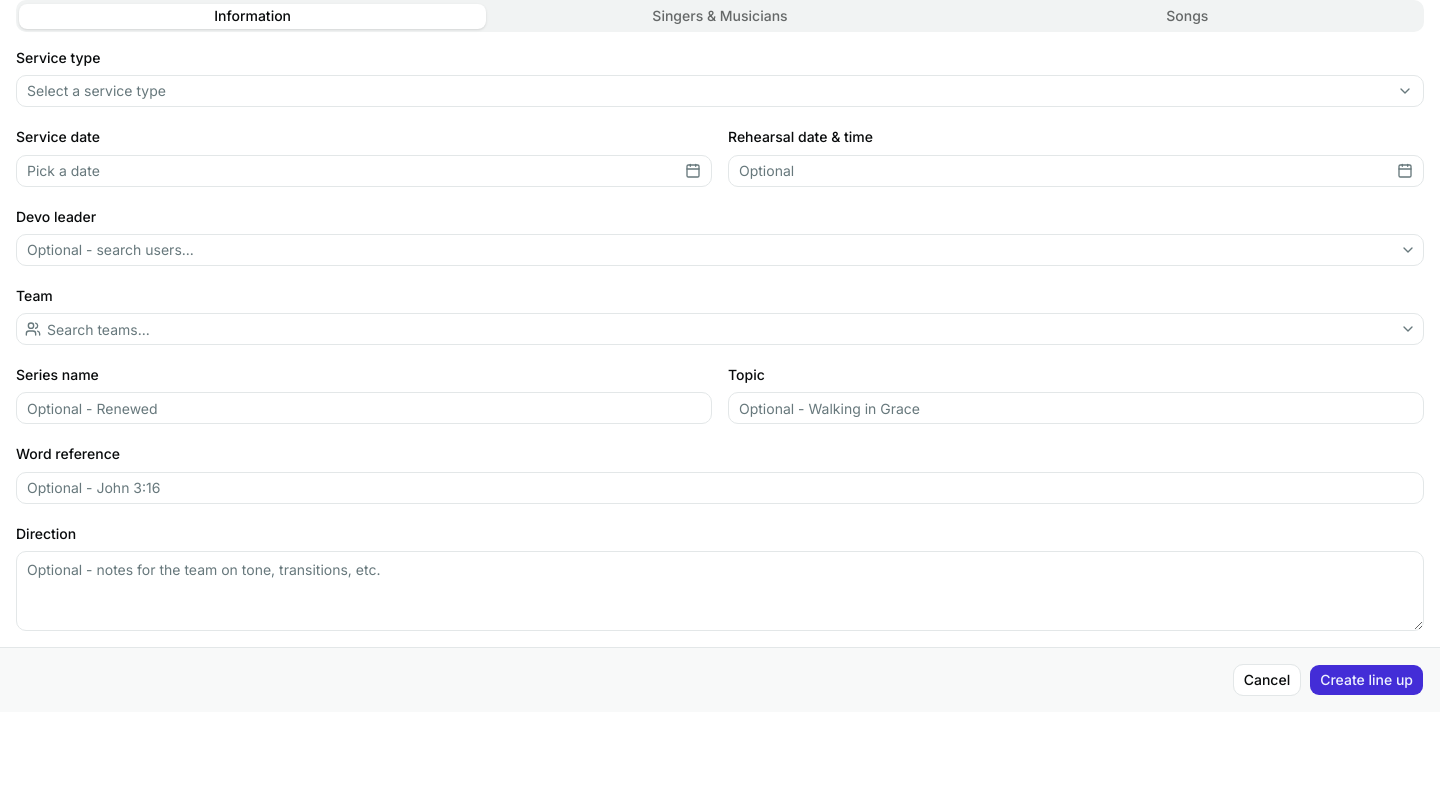
Test case: CreateLineupForm › shows an inline validation error when submitting without selecting a team
The width and height of the screenshot is (1440, 810).
Click the button "Select a service type". click: click(96, 91)
box: [16, 75, 1424, 107]
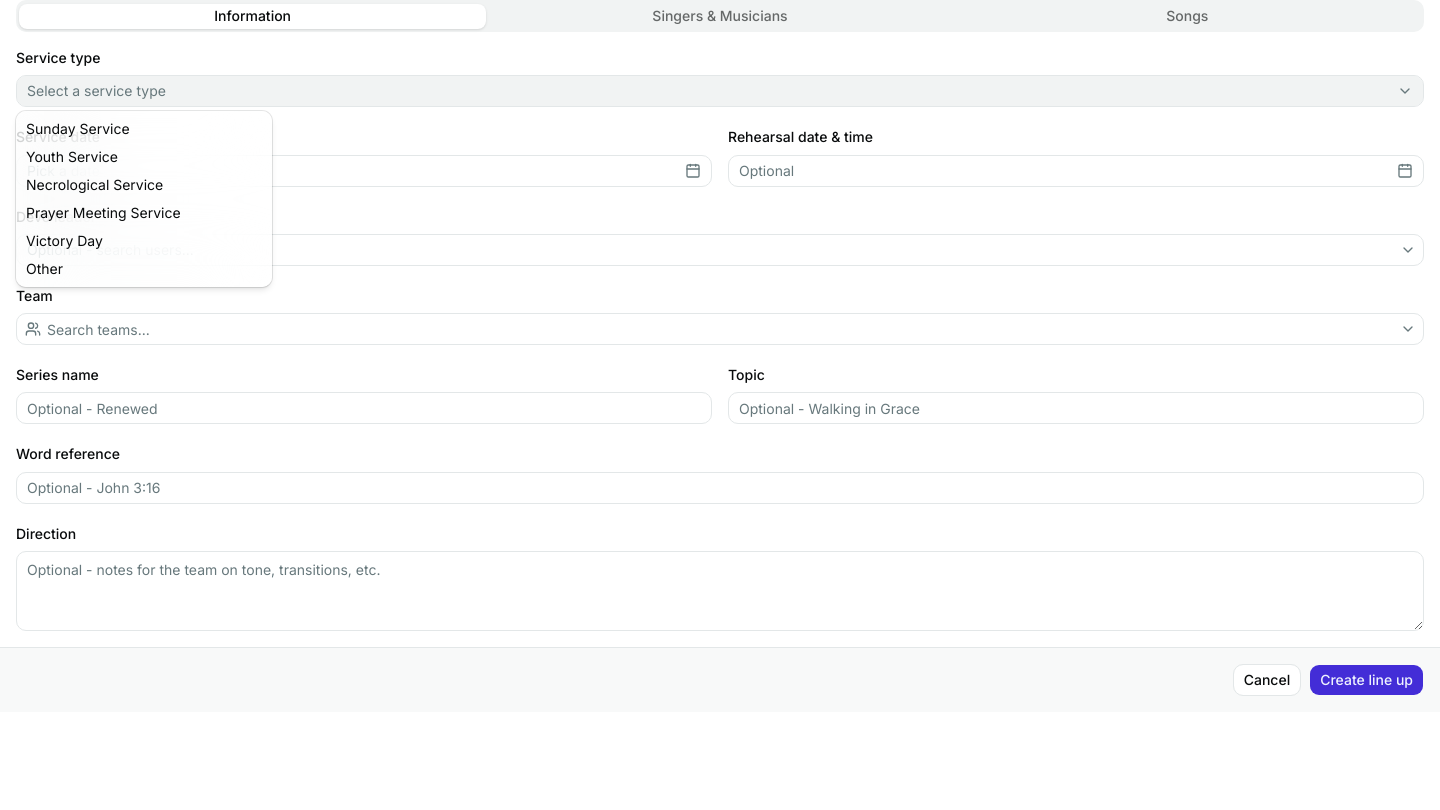
Click the menu item "Sunday Service". click: click(78, 128)
box: [26, 120, 130, 137]
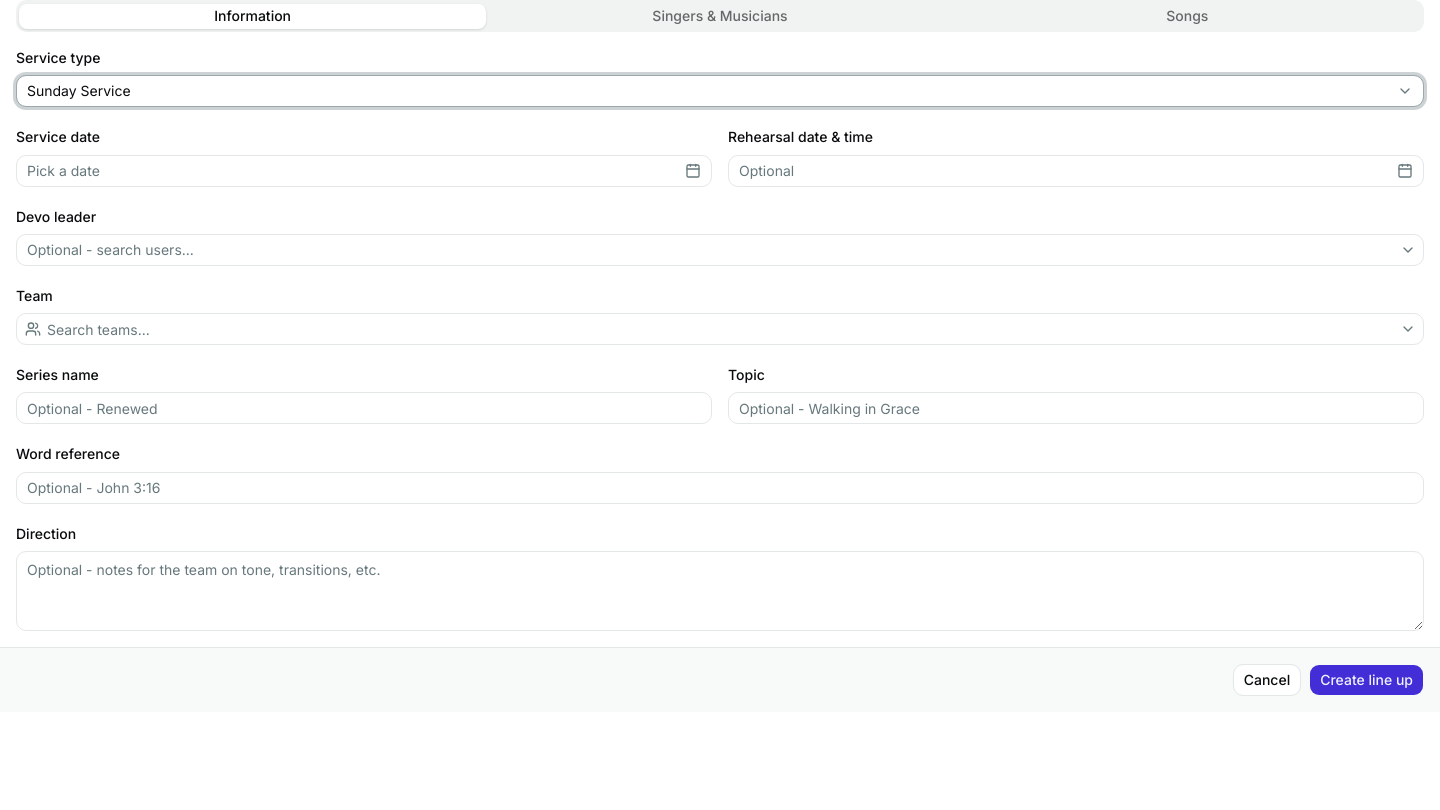
Click the button named "Service date". click: click(63, 170)
box: [16, 154, 712, 186]
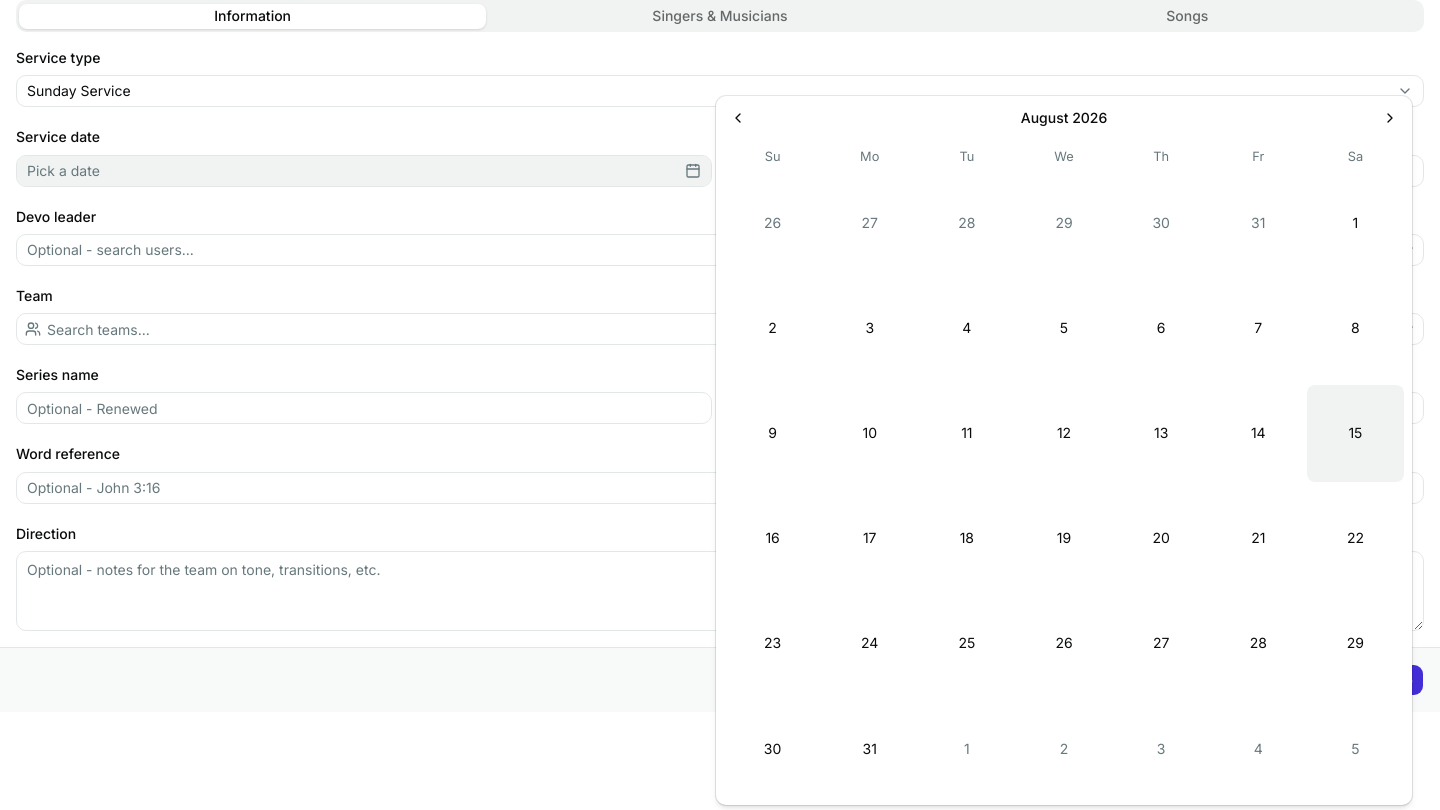
Expected: the table is shown, [724, 148, 1404, 797]
Click the 1st button "2". click: click(773, 328)
box: [724, 279, 821, 376]
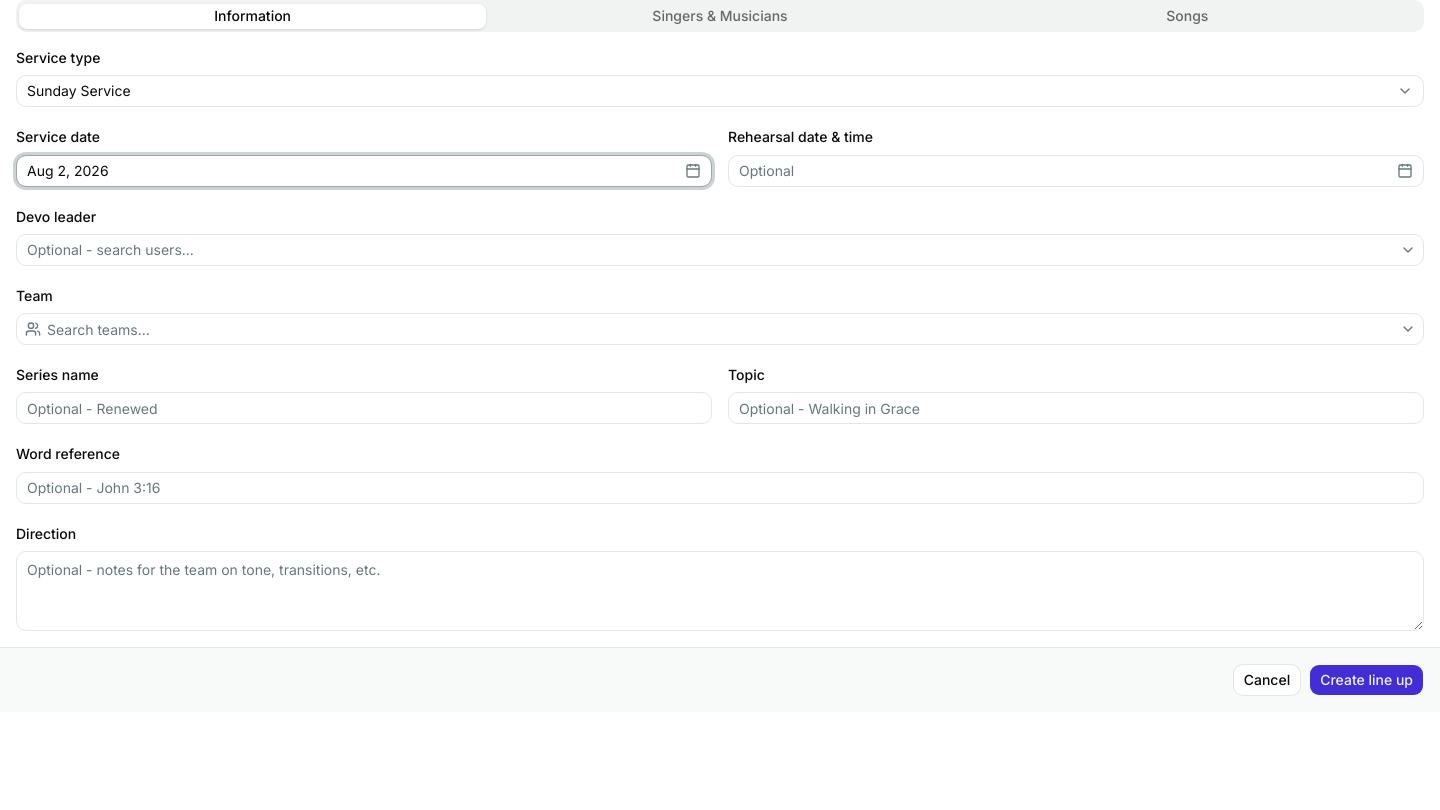
Press Escape
Click the button "Create line up". click: click(1367, 680)
box: [1309, 664, 1424, 696]
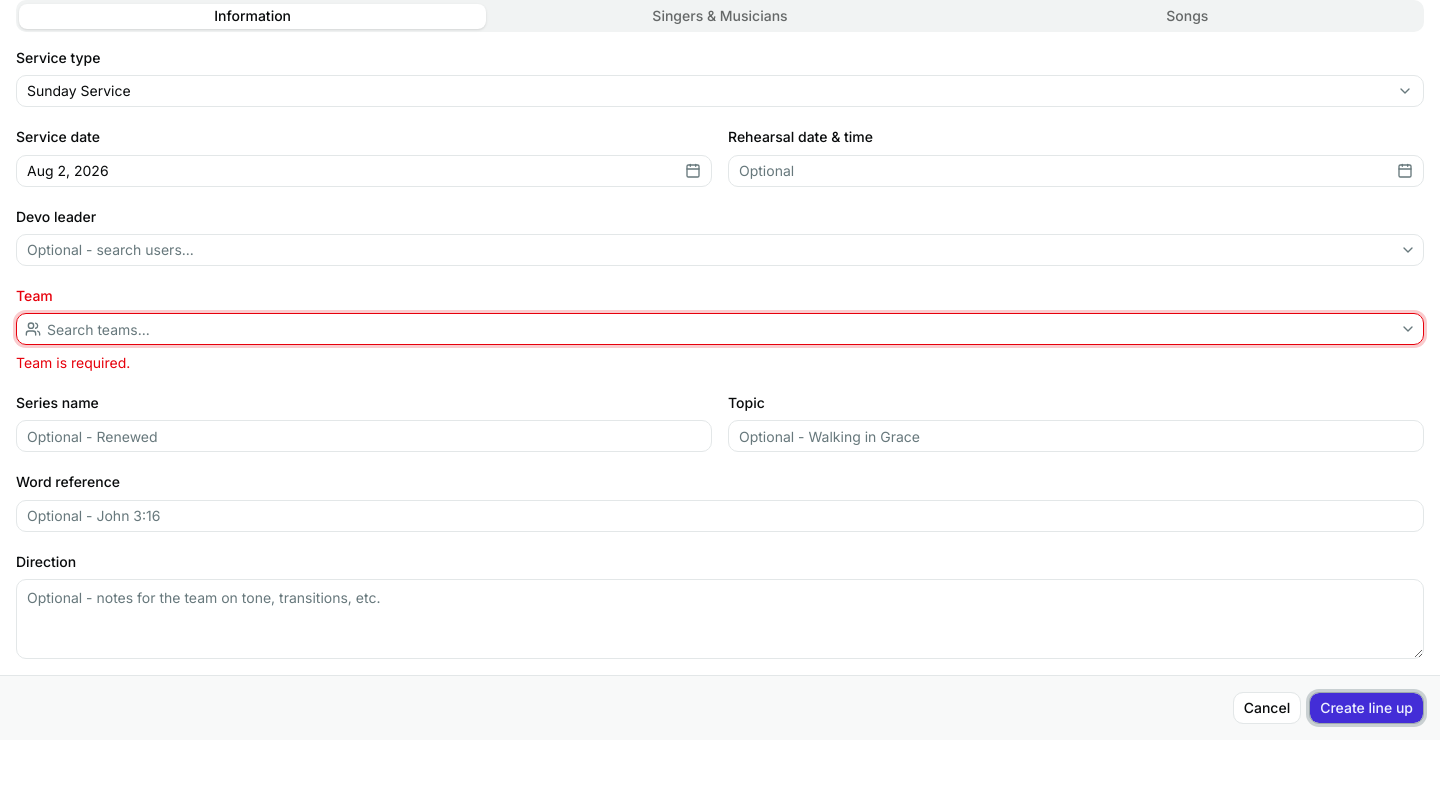
Expected: the text "Team is required." is shown, [16, 354, 130, 371]
